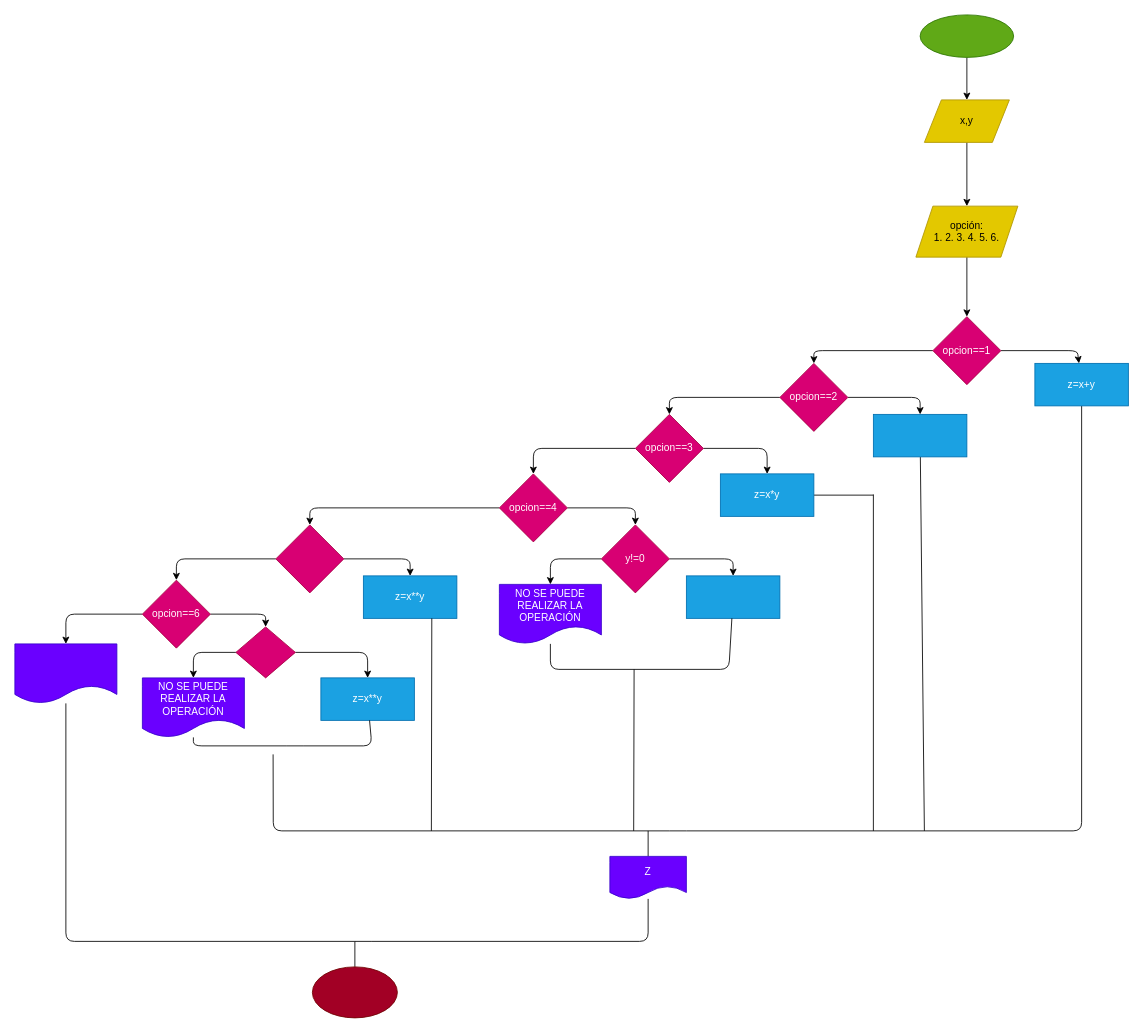
The diagram is 1143 pixels wide and 1033 high, and some of its shapes have lost their labels. The centre of each missing label's shape, as x and y in pixels:
"Fin" goes at point (354, 992).
"Inicio" goes at point (966, 35).
"OPCION NO VÁLIDA" goes at point (65, 673).
"opcion==5" goes at point (309, 558).
"x>0" goes at point (265, 652).
"z=x-y" goes at point (920, 435).
"z=x/y" goes at point (733, 596).
